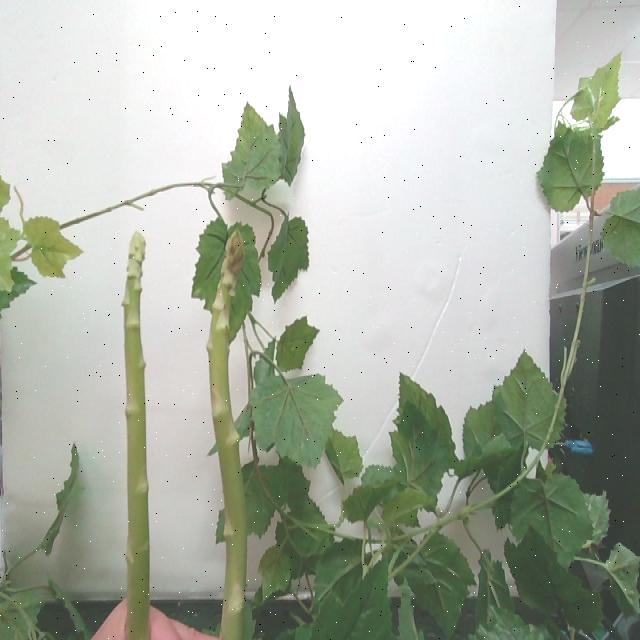aspargus: (206, 230, 248, 640), (122, 234, 150, 640)
